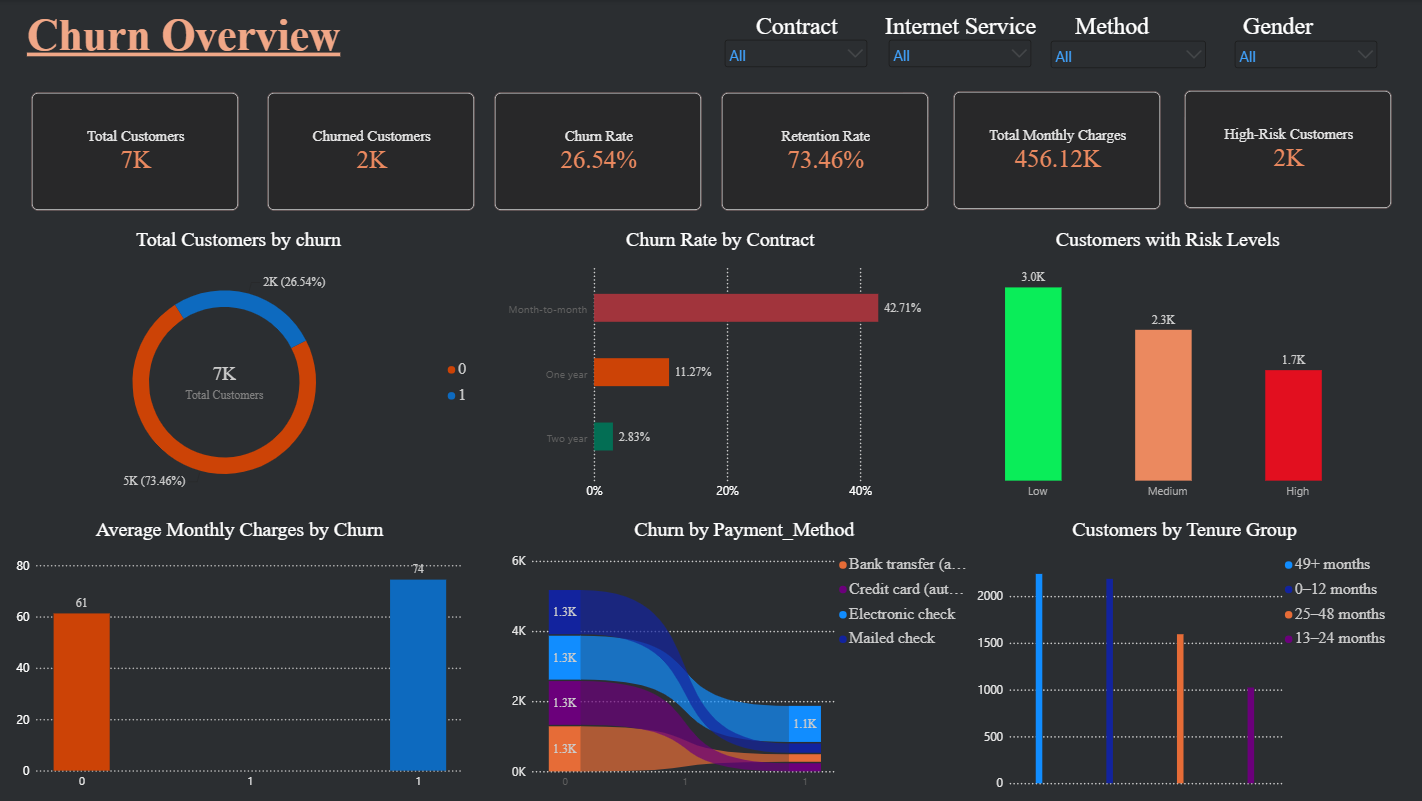

What the dashboard file says about the page in this screenshot:
{"tool":"powerbi","page":{"name":"Executive Churn Overview","canvas":[1920,1080],"ordinal":0},"visuals":[{"type":"cardVisual","fields":{"Data":["measure.Total Customers"]},"box":[44.7,124,280.1,160.2],"z":0},{"type":"textbox","box":[23.7,15.3,450,71.1],"z":1000},{"type":"cardVisual","fields":{"Data":["measure.Churned Customers"]},"box":[361.8,124,280.1,160.2],"z":2000},{"type":"cardVisual","fields":{"Data":["measure.Retention Rate"]},"box":[973,124,280.1,160.2],"z":3000},{"type":"cardVisual","fields":{"Data":["measure.Churn Rate"]},"box":[667.4,124,280.1,160.2],"z":4000},{"type":"cardVisual","fields":{"Data":["measure.Total Monthly Charges"]},"box":[1285.8,122.5,280.1,160.2],"z":5000},{"type":"cardVisual","fields":{"Data":["measure.High-Risk Customers"]},"box":[1597.1,121.1,280.1,160.2],"z":6000},{"type":"donutChart","title":"Total Customers by churn","fields":{"Category":["Customer_Risk.Churn"],"Y":["measure.Total Customers"]},"box":[7.2,307,634,369.2],"z":7000},{"type":"clusteredBarChart","fields":{"Category":["Customer_Risk.Contract"],"Y":["measure.Churn Rate"]},"box":[678.5,306.5,588,369],"z":8000},{"type":"clusteredColumnChart","title":"Customers with Risk Levels","fields":{"Category":["Customer_Risk.RiskLevel"],"Y":["measure.Customers with Risk Levels"]},"box":[1286,306.5,578.2,369.2],"z":9000},{"type":"clusteredColumnChart","fields":{"Category":["Customer_Risk.Churn"],"Y":["measure.Average Monthly Charges"]},"box":[23.7,698.1,601.9,369.2],"z":10000},{"type":"ribbonChart","title":"Churn by Payment_Method","fields":{"Category":["Customer_Risk.Churn"],"Series":["Customer_Risk.PaymentMethod"],"Y":["CountNonNull(Customer_Risk.PaymentMethod)"]},"box":[692.5,698.1,625.6,369.2],"z":11000},{"type":"clusteredColumnChart","title":"Customers by Tenure Group ","fields":{"Category":["Telco_Churn.Tenure Group"],"Series":["Telco_Churn.Tenure Group"],"Y":["measure.Total Customers"]},"box":[1318.1,698.1,558.7,369.2],"z":12000},{"type":"slicer","fields":{"Values":["Telco_Churn.gender"]},"box":[1660.5,50.5,202,65.5],"z":13000},{"type":"slicer","fields":{"Values":["Customer_Risk.PaymentMethod"]},"box":[1412.6,50.5,219,65.1],"z":14000},{"type":"slicer","fields":{"Values":["Customer_Risk.InternetService"]},"box":[1195,49,201.8,46.1],"z":15000},{"type":"slicer","fields":{"Values":["Customer_Risk.Contract"]},"box":[973,49,201.8,50.5],"z":16000},{"type":"textbox","box":[1004.7,15.9,170.1,47.6],"z":17000},{"type":"textbox","box":[99.5,99.5,301.3,47.6],"z":18000},{"type":"textbox","box":[1195,15.9,230.6,47.6],"z":19000},{"type":"textbox","box":[1450.1,15.9,115.3,47.6],"z":20000},{"type":"textbox","box":[1676.4,15.9,200.4,47.6],"z":21000}]}

Visuals, with their boxes in screenshot pixels (x1, y1, x2, y2), scaled from the page's 1920x1080 canvas onto the 1422x801 screenshot:
cardVisual - measure.Total Customers: (33, 92, 241, 211)
textbox: (18, 11, 351, 64)
cardVisual - measure.Churned Customers: (268, 92, 475, 211)
cardVisual - measure.Retention Rate: (721, 92, 928, 211)
cardVisual - measure.Churn Rate: (494, 92, 702, 211)
cardVisual - measure.Total Monthly Charges: (952, 91, 1160, 210)
cardVisual - measure.High-Risk Customers: (1183, 90, 1390, 209)
"Total Customers by churn" donutChart: (5, 228, 475, 502)
clusteredBarChart - Customer_Risk.Contract x measure.Churn Rate: (503, 227, 938, 501)
"Customers with Risk Levels" clusteredColumnChart: (952, 227, 1381, 501)
clusteredColumnChart - Customer_Risk.Churn x measure.Average Monthly Charges: (18, 518, 463, 792)
"Churn by Payment_Method" ribbonChart: (513, 518, 976, 792)
"Customers by Tenure Group " clusteredColumnChart: (976, 518, 1390, 792)
slicer - Telco_Churn.gender: (1230, 37, 1379, 86)
slicer - Customer_Risk.PaymentMethod: (1046, 37, 1208, 86)
slicer - Customer_Risk.InternetService: (885, 36, 1035, 71)
slicer - Customer_Risk.Contract: (721, 36, 870, 74)
textbox: (744, 12, 870, 47)
textbox: (74, 74, 297, 109)
textbox: (885, 12, 1056, 47)
textbox: (1074, 12, 1159, 47)
textbox: (1242, 12, 1390, 47)
